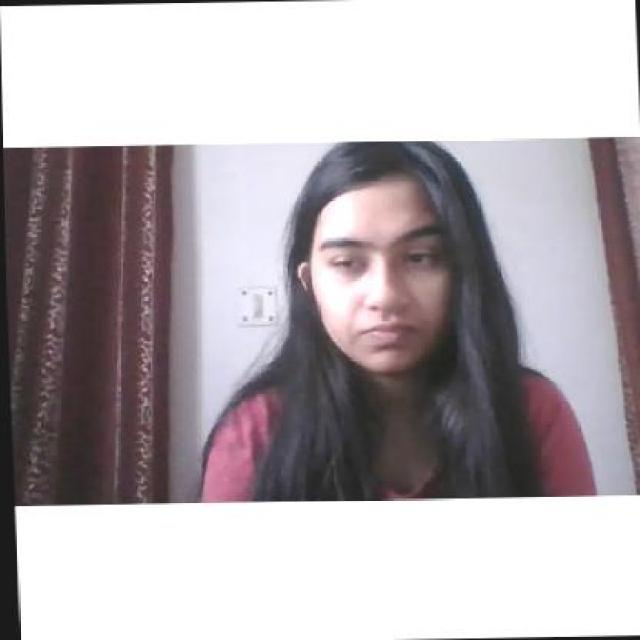attentif: (290, 138, 462, 372)
